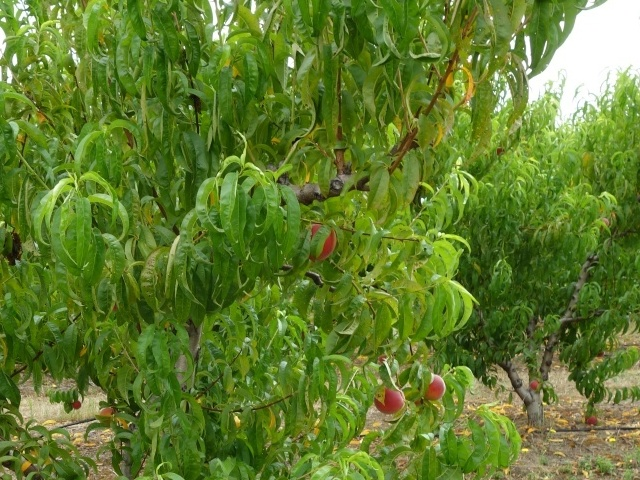peach: (301, 217, 339, 263), (370, 381, 405, 417), (417, 371, 449, 403)
